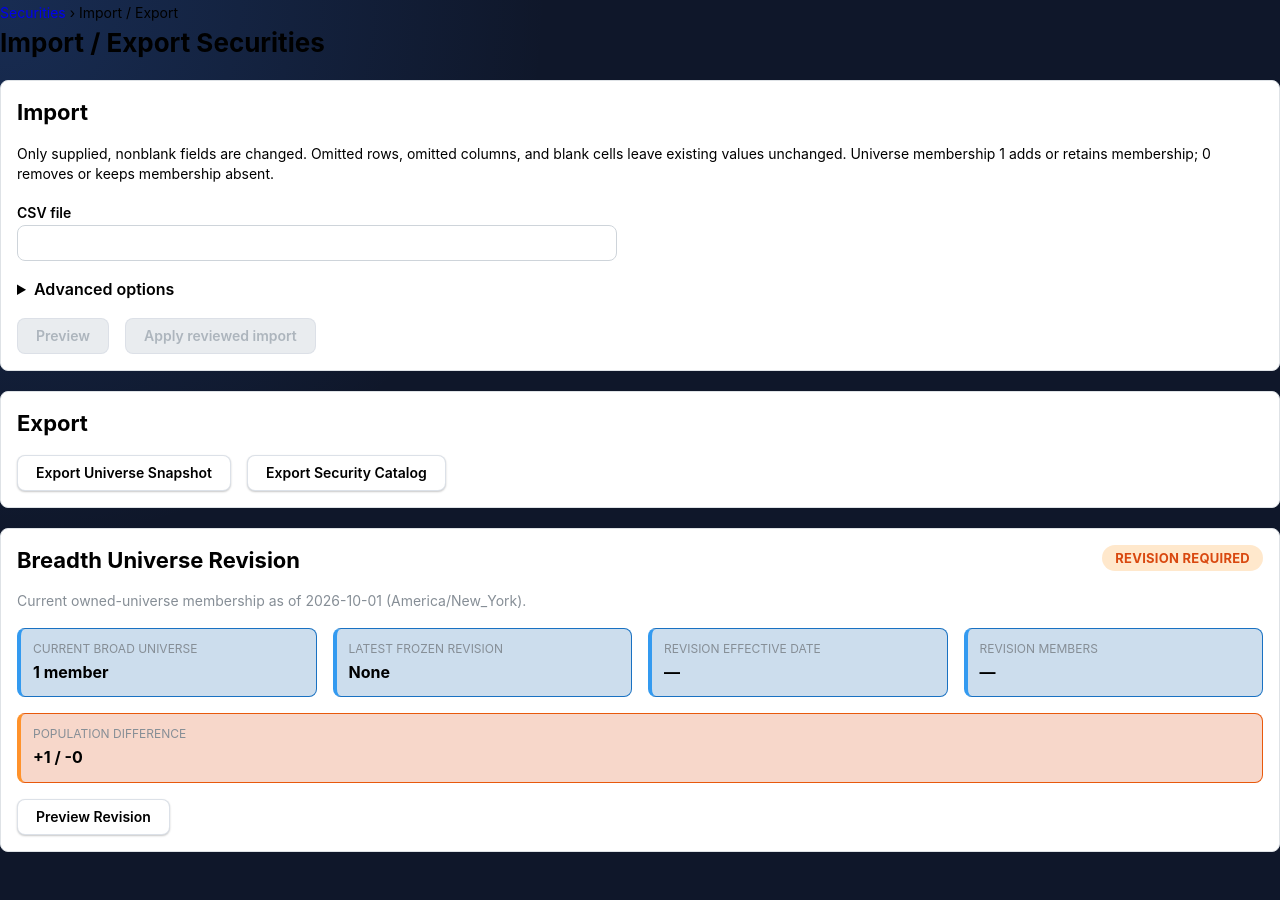
Test: Securities import/export review › shows revision-required status on direct load and gates freeze behind preview
Expected: the text "REVISION REQUIRED" is shown, x1=1115 y1=546 x2=1250 y2=570
Expected: the text "1 member" is shown, x1=33 y1=662 x2=109 y2=682
Click the button "Preview Revision" at coordinates (93, 817), box x1=17 y1=799 x2=170 y2=835
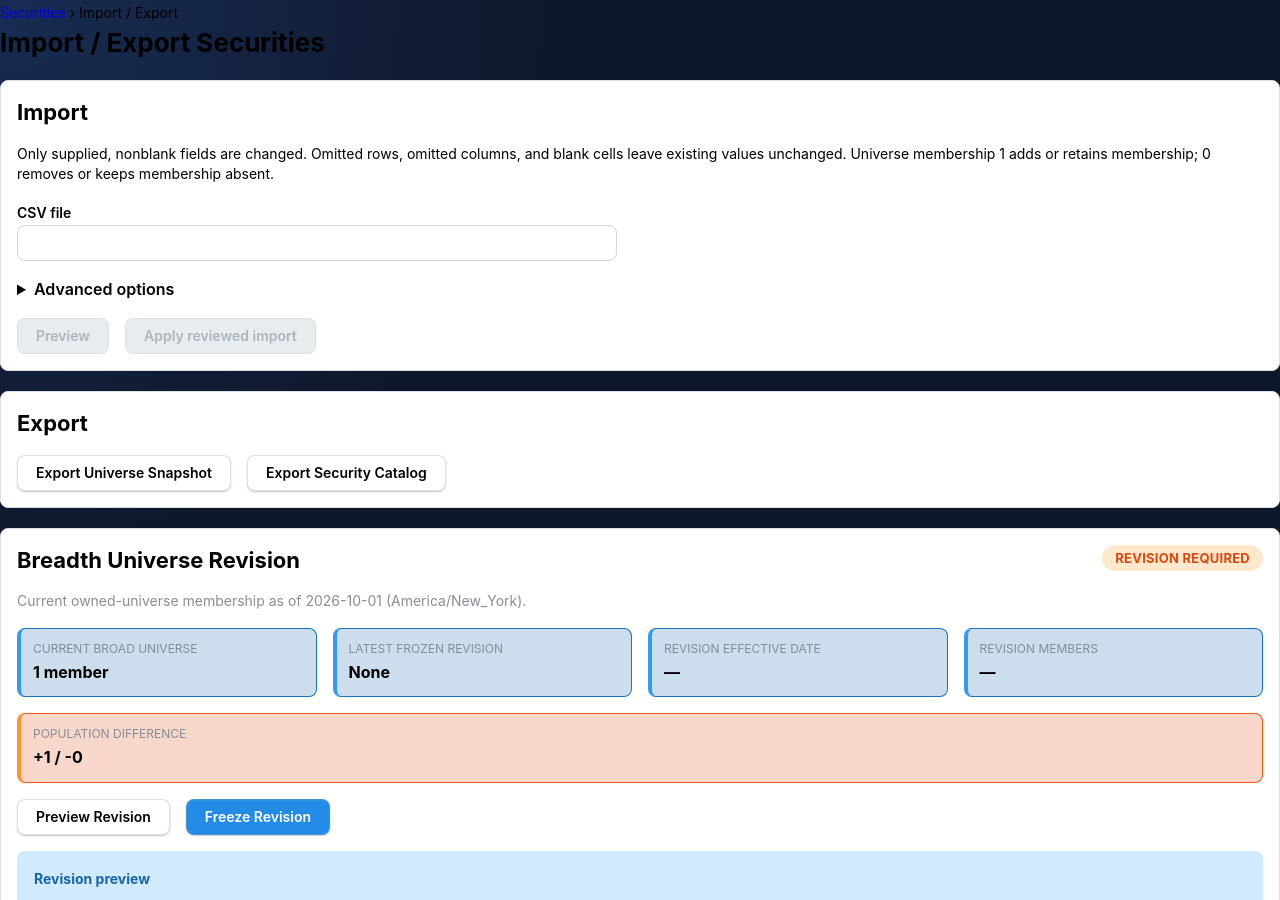
Result: the button "Freeze Revision" is shown at x1=186 y1=799 x2=330 y2=835
